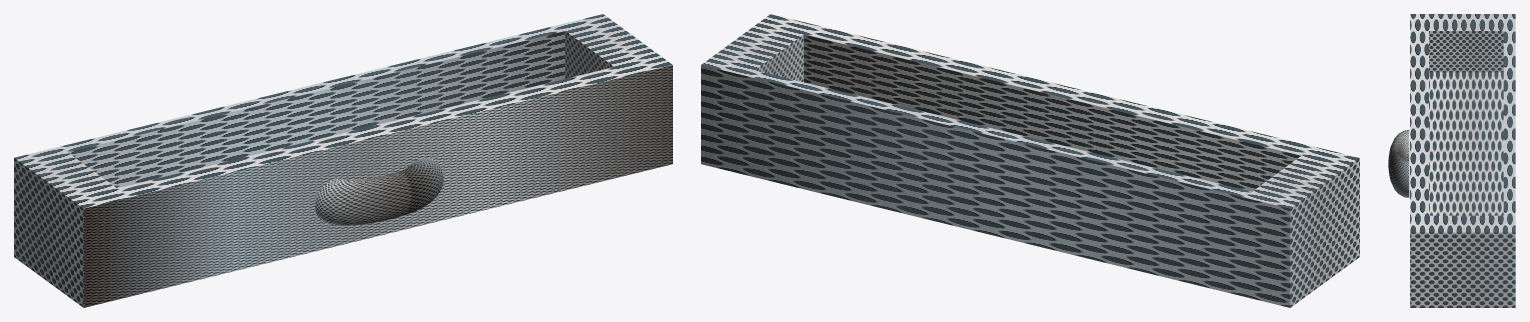
Rendered from cajahotdog.obj.
3 views of the same model, side by side, from view 1: azimuth 30°, elevation 25°; view 2: azimuth 150°, elevation 25°; view 3: azimuth 270°, elevation 25° (orthographic). The views are drawn at different scales.
Parts seen in each view (by area): view 1: cajahotdog:polySurface21; view 2: cajahotdog:polySurface21; view 3: cajahotdog:polySurface21.
Part boxes in pixels (box(x1,y1,x2,y2)): cajahotdog:polySurface21: box(14, 14, 672, 307); cajahotdog:polySurface21: box(701, 14, 1359, 307); cajahotdog:polySurface21: box(1388, 14, 1515, 307).
Size of the model in its own units: 1.47 by 0.2359 by 0.3616.
